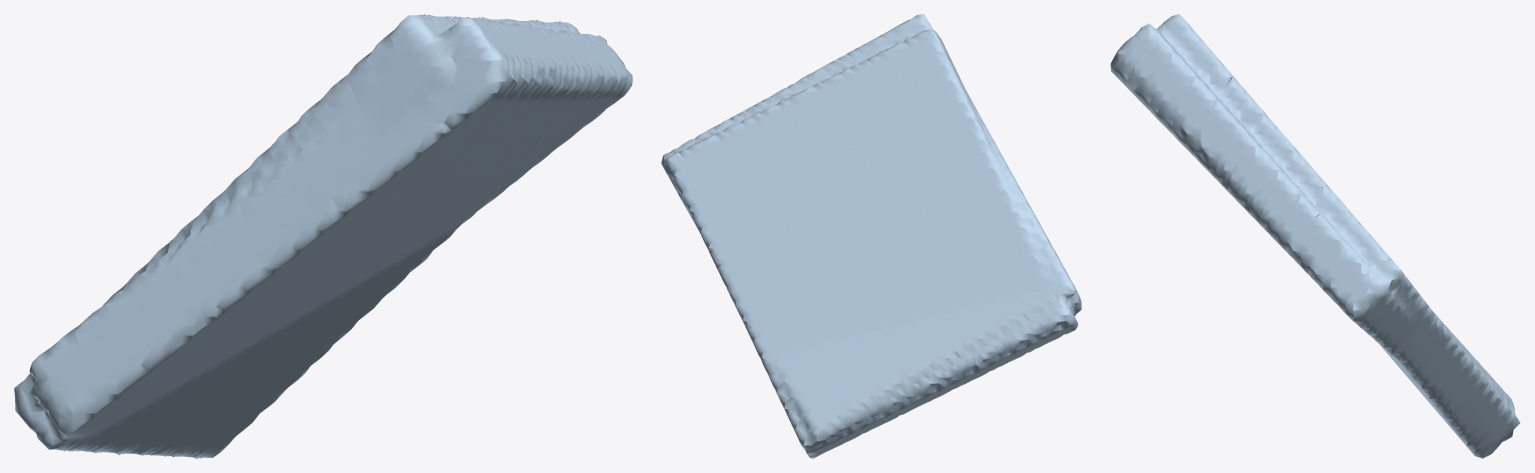
The model's file is glass-door.gltf.
The picture shows the model from 3 angles, left to right: view 1: azimuth 30°, elevation 25°; view 2: azimuth 150°, elevation 25°; view 3: azimuth 270°, elevation 25°; orthographic projection. The views are drawn at different scales.
Parts seen in each view (by area): view 1: Layer_2; view 2: Layer_2; view 3: Layer_2.
Boxes of the visible parts, bbox=[...] form: Layer_2: bbox=[14, 14, 632, 458]; Layer_2: bbox=[661, 14, 1081, 458]; Layer_2: bbox=[1110, 14, 1520, 458].
Size of the model in its own units: 56.8 by 48.96 by 40.59.
Materials: 1 (1 with a texture image).
